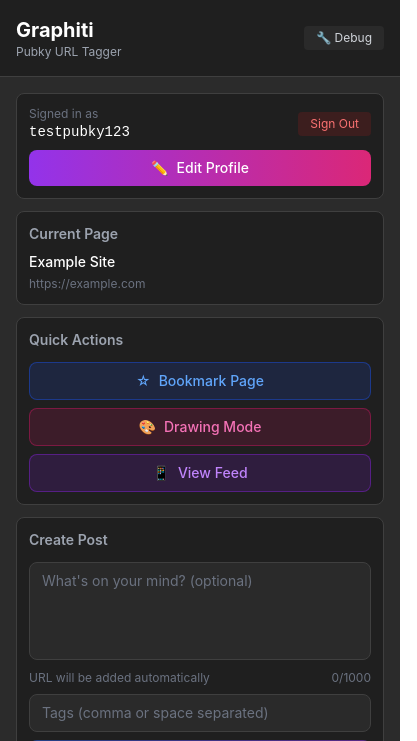
Test: Popup App Integration › Profile Editor Navigation › should navigate to profile editor
Click the button "✏️ Edit Profile" at x=200, y=168, box [29,150,371,186]
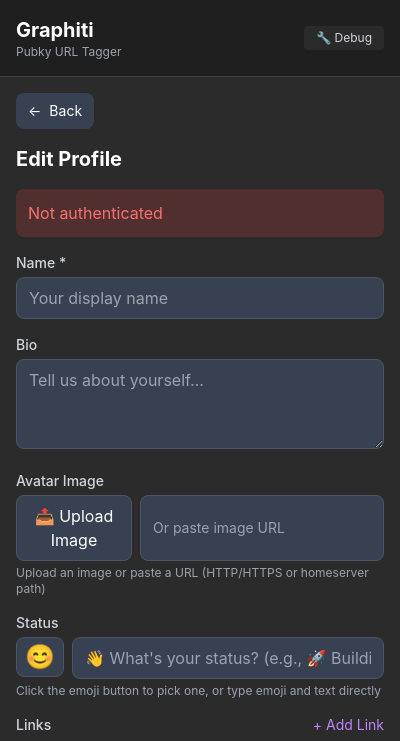
Now the button "← Back" is shown, box [16,93,94,129]
